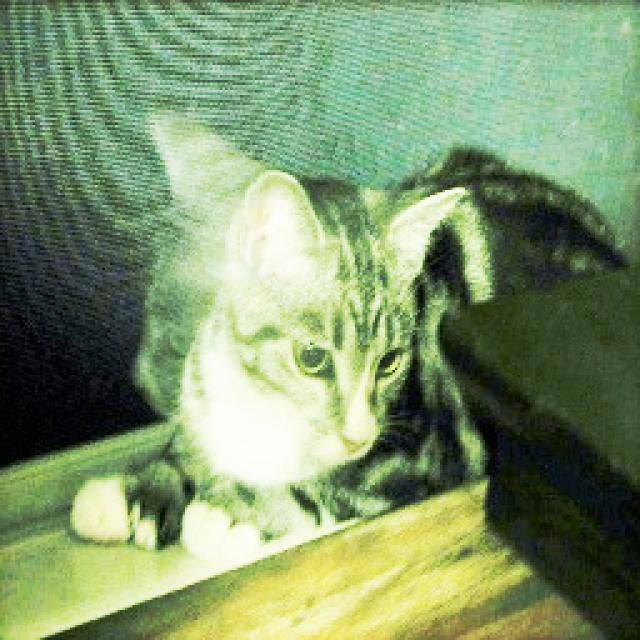cat: (60, 147, 628, 559)
